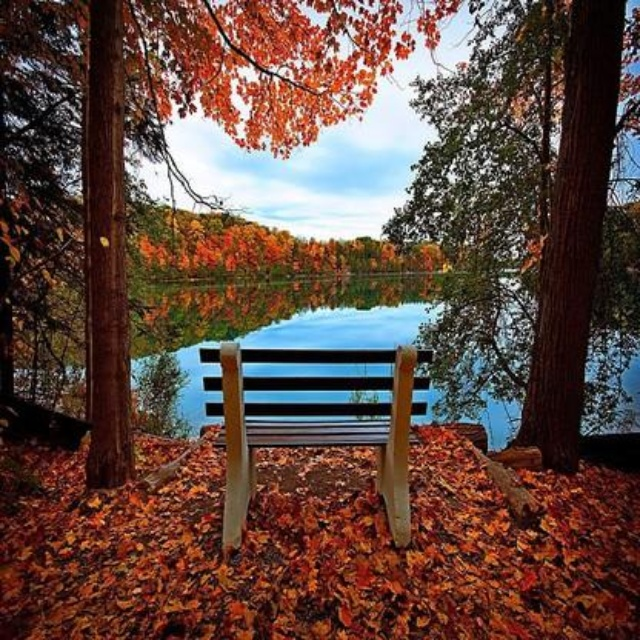obstacle: (195, 335, 446, 552)
